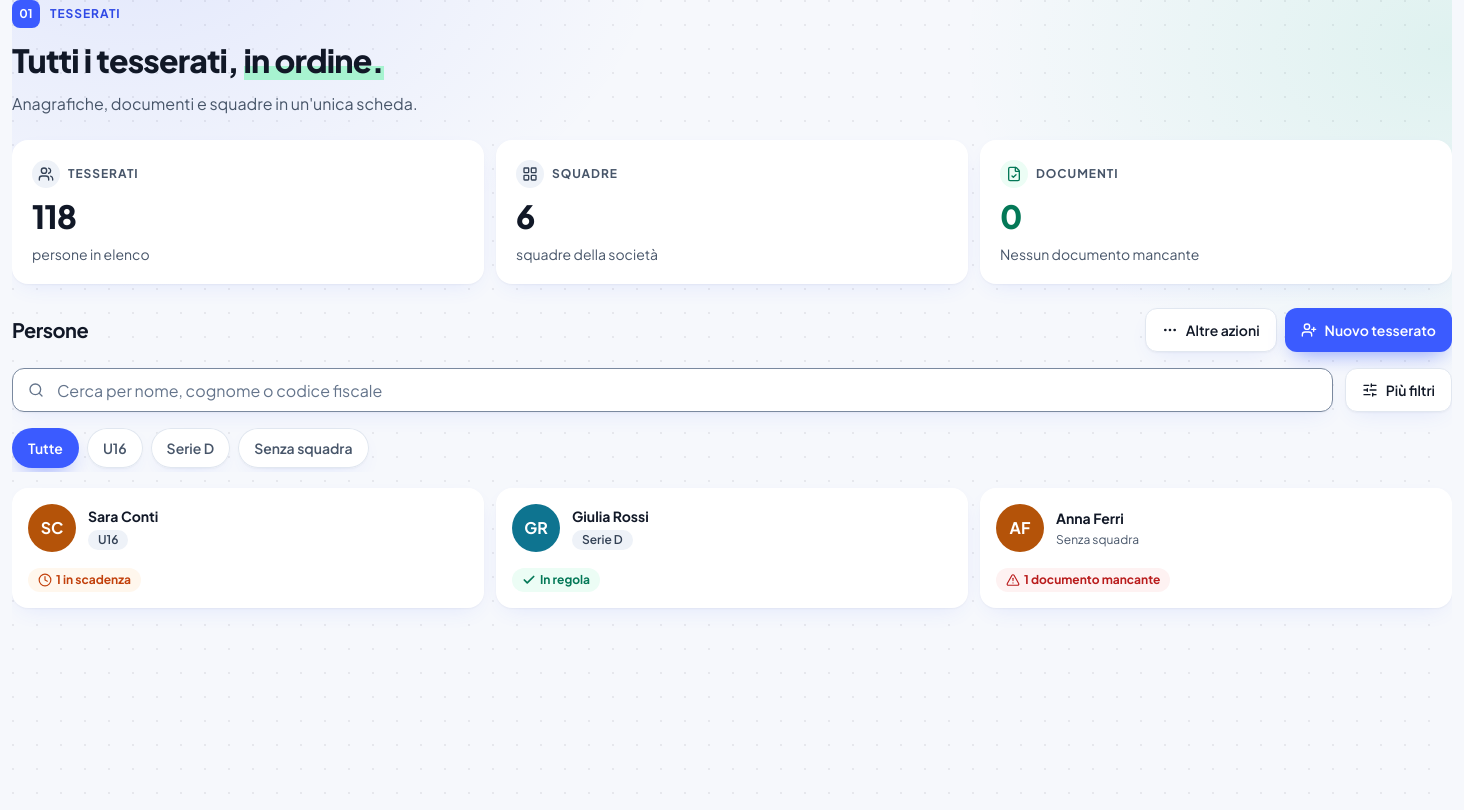
Test: MembersPage › puts the secondary actions in a menu next to the main one
Expected: the text "Sara Conti" is shown, [88,506,158,526]
Expected: the button "Nuovo tesserato" is shown, [1285,308,1452,352]
Click the button "Altre azioni": {"x": 1211, "y": 330} [1145,308,1277,352]
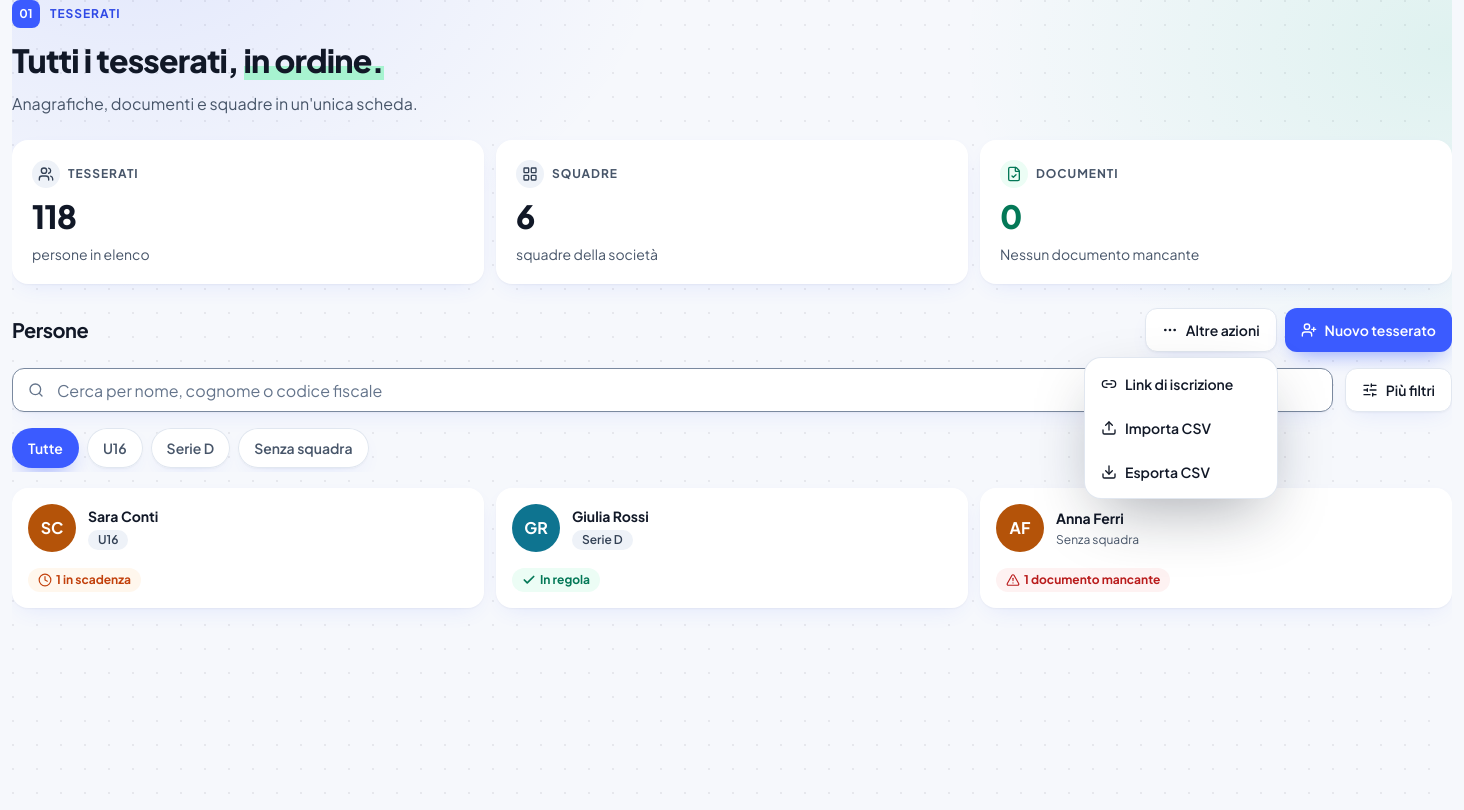
Result: the menu item "Link di iscrizione" is shown at [1101,375,1233,393]
Result: the menu item "Importa CSV" is shown at [1101,419,1211,437]
Result: the menu item "Esporta CSV" is shown at [1101,463,1210,481]
